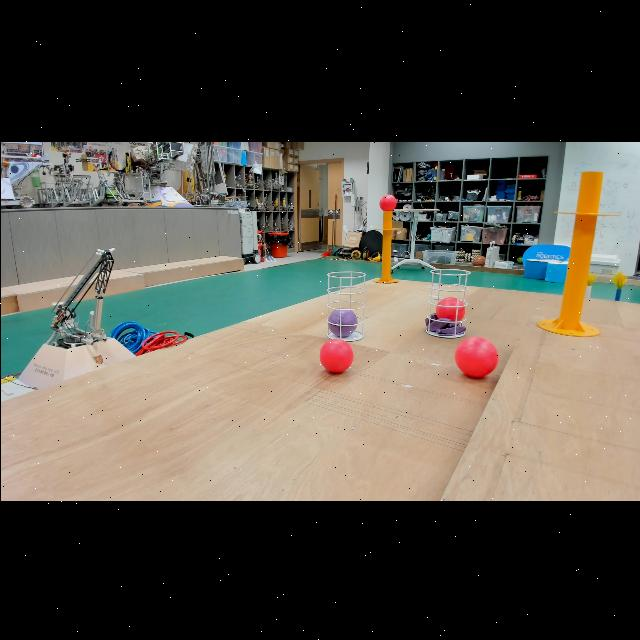P: (326, 305, 358, 337)
R: (453, 334, 499, 378), (318, 336, 354, 374), (433, 294, 467, 324), (376, 188, 398, 214)
S: (424, 266, 471, 338), (325, 268, 365, 339)
